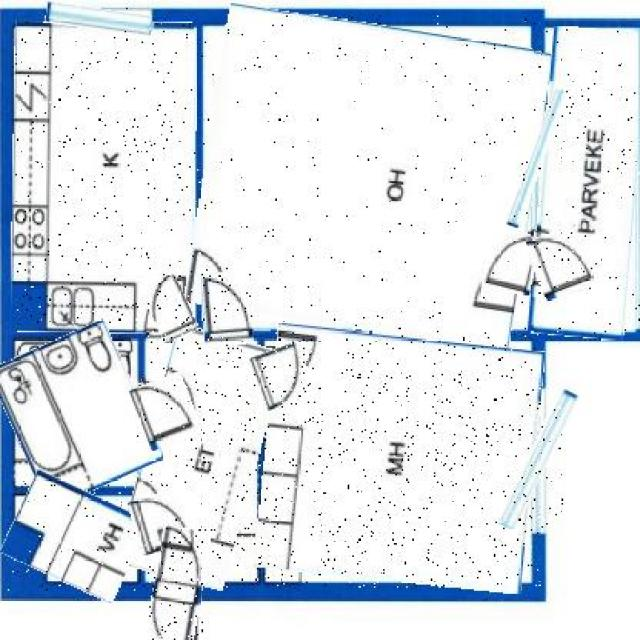door: (149, 526, 205, 640), (134, 377, 197, 448), (532, 229, 594, 297), (252, 344, 311, 408), (201, 274, 254, 344), (131, 491, 191, 552), (485, 231, 540, 295), (146, 277, 192, 341)
window: (512, 386, 563, 532), (518, 88, 556, 230), (46, 6, 152, 32)
zone: (194, 16, 543, 342), (260, 332, 540, 588), (12, 21, 197, 332), (129, 329, 271, 588), (534, 28, 640, 337), (0, 328, 151, 498), (8, 480, 143, 592)
